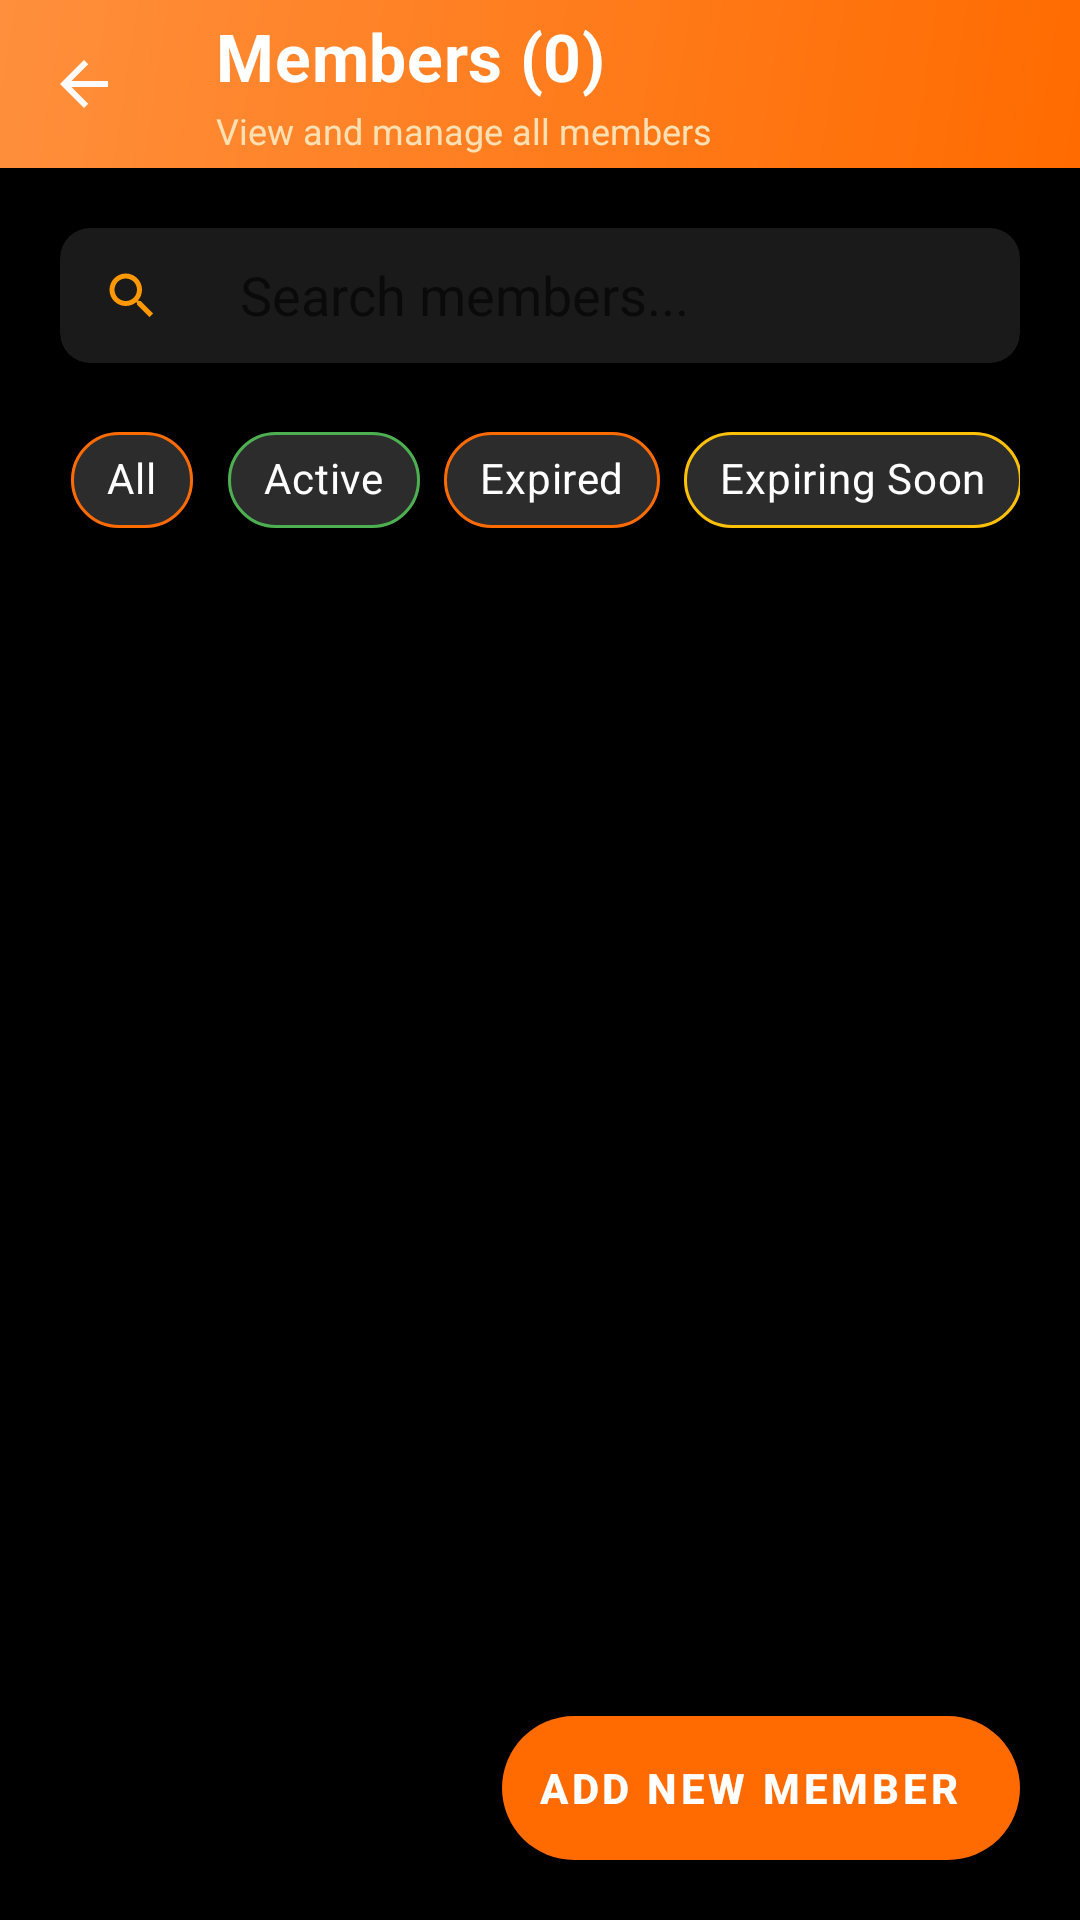

Point at icon controls on the screen. Image size 1080×1920, points as (x=x, y=y).
search: (x=131, y=295)
